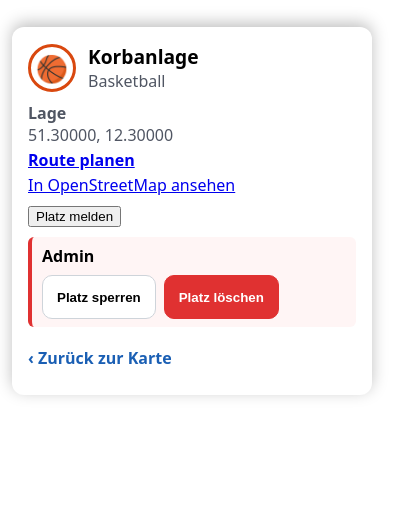
Test case: Admin actions in the Place detail (SCRUM-39) › delete shows the server error and keeps the Place open
Click the button "Platz löschen".
click(221, 297)  # box [164,275,279,319]
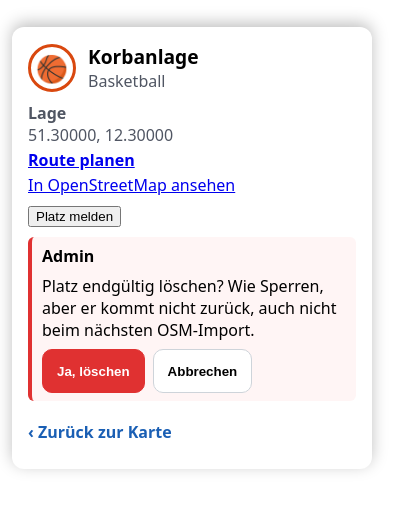
Click the button "Ja, löschen".
click(93, 371)  # box [42,349,145,393]
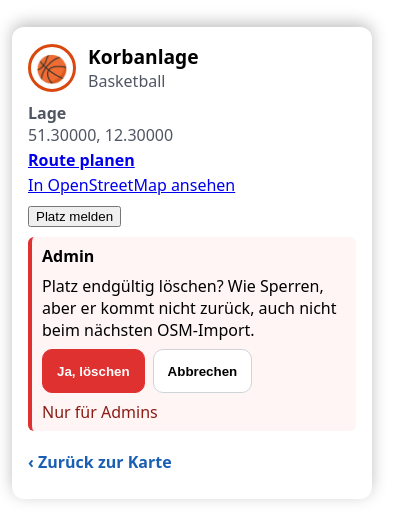
Result: the text "Nur für Admins" is shown at [42,401,158,423]
